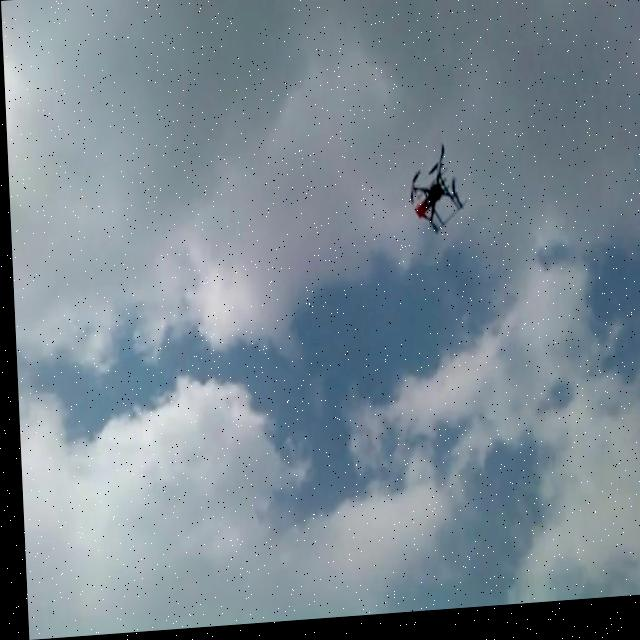drone: (401, 141, 464, 245)
